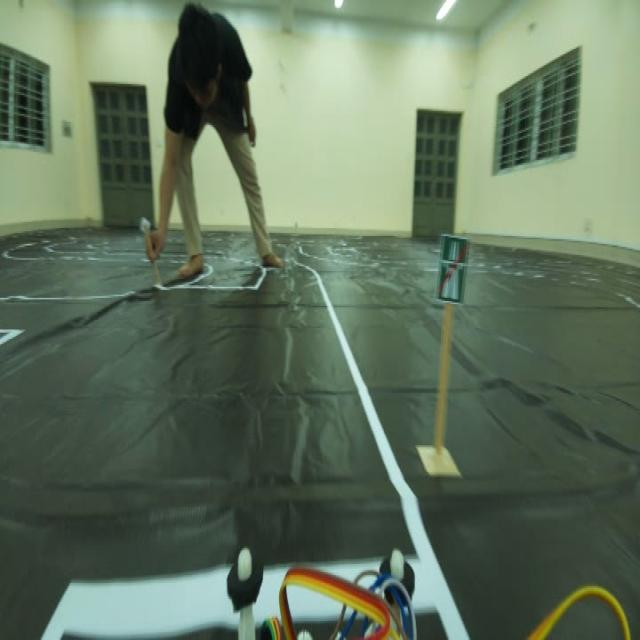highway_exit: (429, 227, 471, 310)
